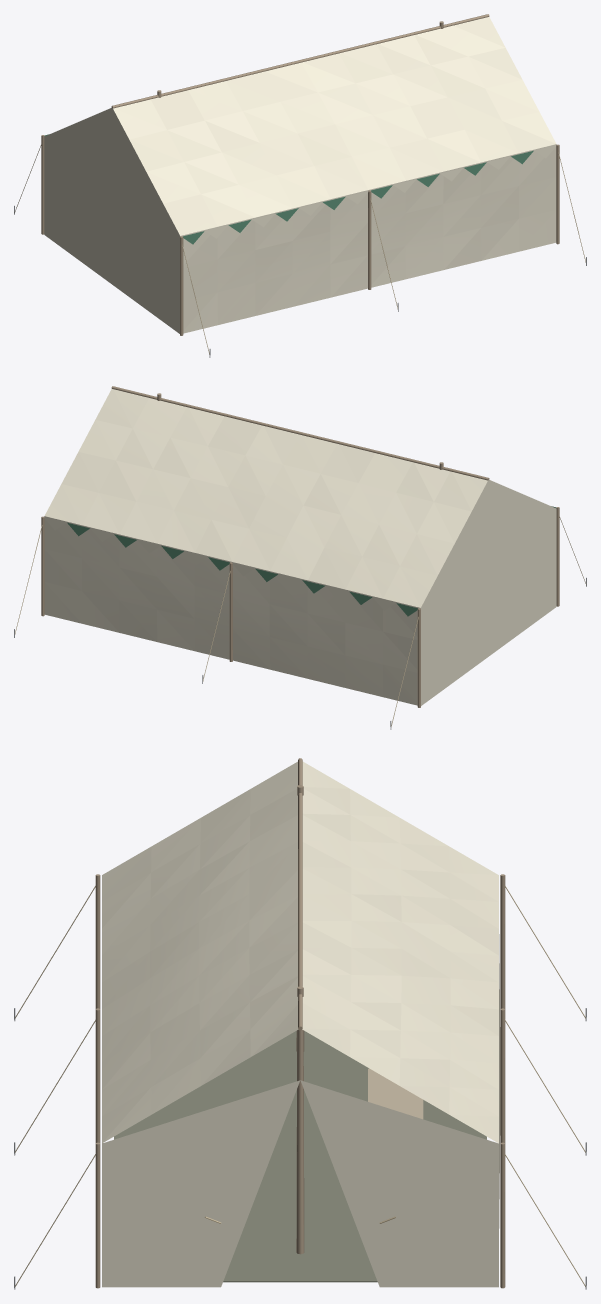
Rendered from festival_marquee_a.glb.
The picture shows the model from 3 angles, top to bottom: view 1: azimuth 30°, elevation 25°; view 2: azimuth 150°, elevation 25°; view 3: azimuth 270°, elevation 25°; orthographic projection. The views are drawn at different scales.
Parts seen in each view (by area): view 1: body; view 2: body; view 3: body.
Part boxes in pixels (x1,y1,x2,y2): body: (14, 14, 586, 357); body: (14, 386, 586, 729); body: (14, 758, 586, 1289).
Size of what is drawn, in the model's own units: 8.09 by 3.73 by 7.22.
